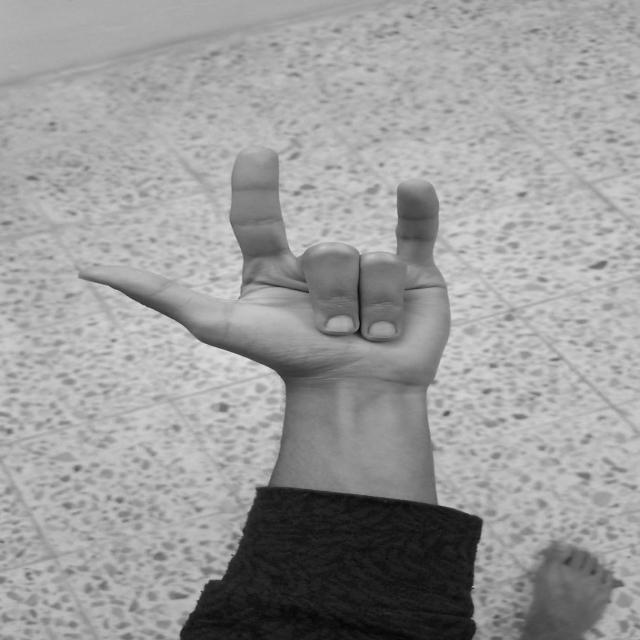i love you: (69, 138, 466, 410)
